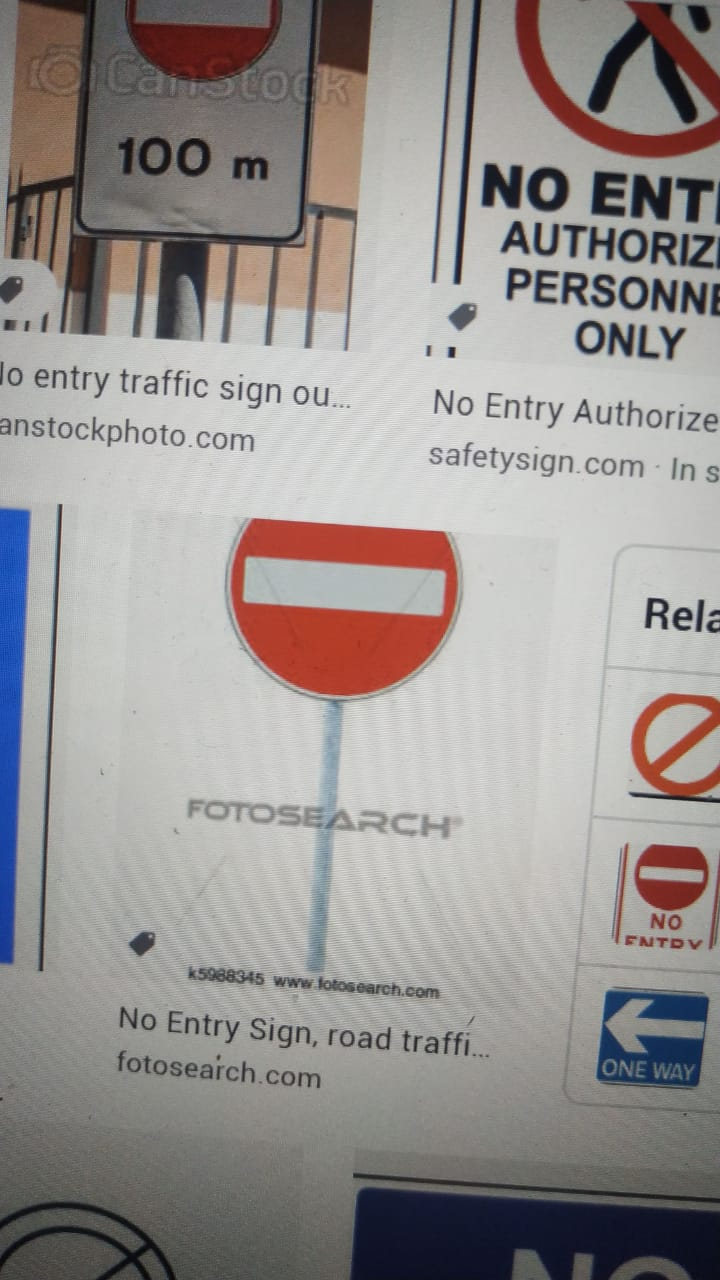NO ENTRY: (213, 442, 487, 710), (614, 818, 718, 922)
